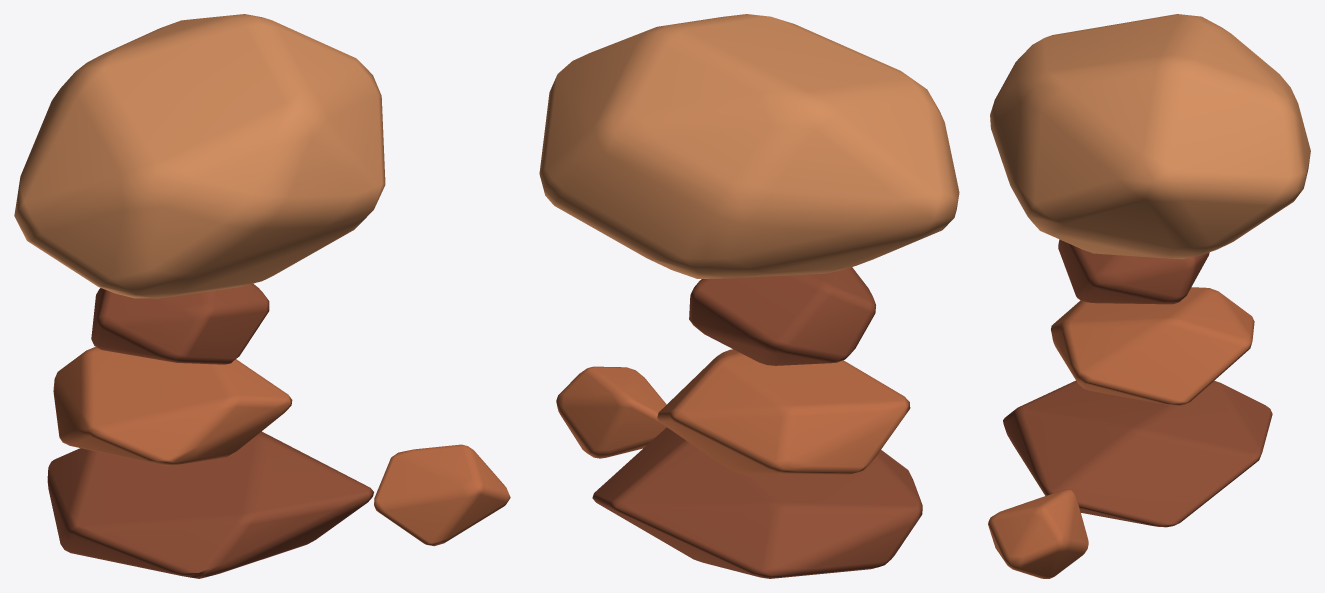
Rendered from rocher_desert_2.glb.
3 views of the same model, side by side, from view 1: azimuth 30°, elevation 25°; view 2: azimuth 150°, elevation 25°; view 3: azimuth 270°, elevation 25° (orthographic). The views are drawn at different scales.
Visible parts, largest first — view 1: roche_gres_clair.006, roche_gres_sombre.006, roche_gres.006; view 2: roche_gres_clair.006, roche_gres_sombre.006, roche_gres.006; view 3: roche_gres_clair.006, roche_gres_sombre.006, roche_gres.006.
Boxes of the visible parts, bbox=[...] form: roche_gres_clair.006: bbox=[14, 14, 385, 298]; roche_gres_sombre.006: bbox=[47, 283, 373, 578]; roche_gres.006: bbox=[53, 347, 510, 546]; roche_gres_clair.006: bbox=[539, 14, 959, 278]; roche_gres_sombre.006: bbox=[592, 267, 922, 578]; roche_gres.006: bbox=[556, 349, 910, 474]; roche_gres_clair.006: bbox=[990, 14, 1310, 259]; roche_gres_sombre.006: bbox=[1003, 239, 1272, 527]; roche_gres.006: bbox=[988, 287, 1254, 578].
Bounding box in the file's own units: 0.6901 × 0.768 × 0.4914.
